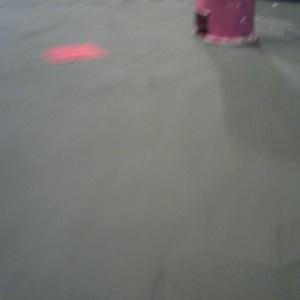right: (192, 1, 260, 47)
